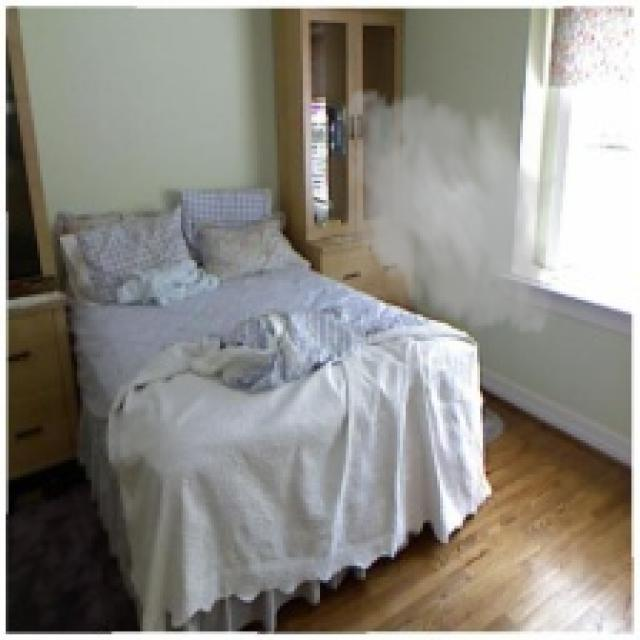Smoke: (322, 77, 568, 346)
